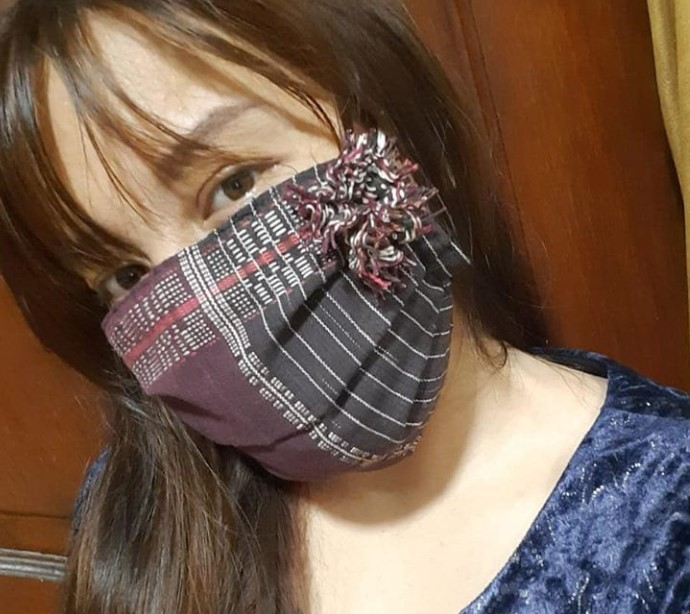face_with_mask: (3, 4, 466, 492)
